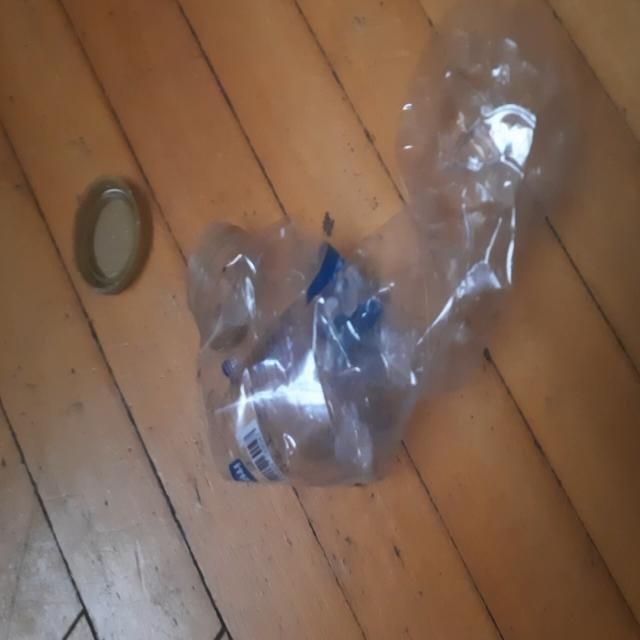Plastic: (193, 23, 541, 487)
